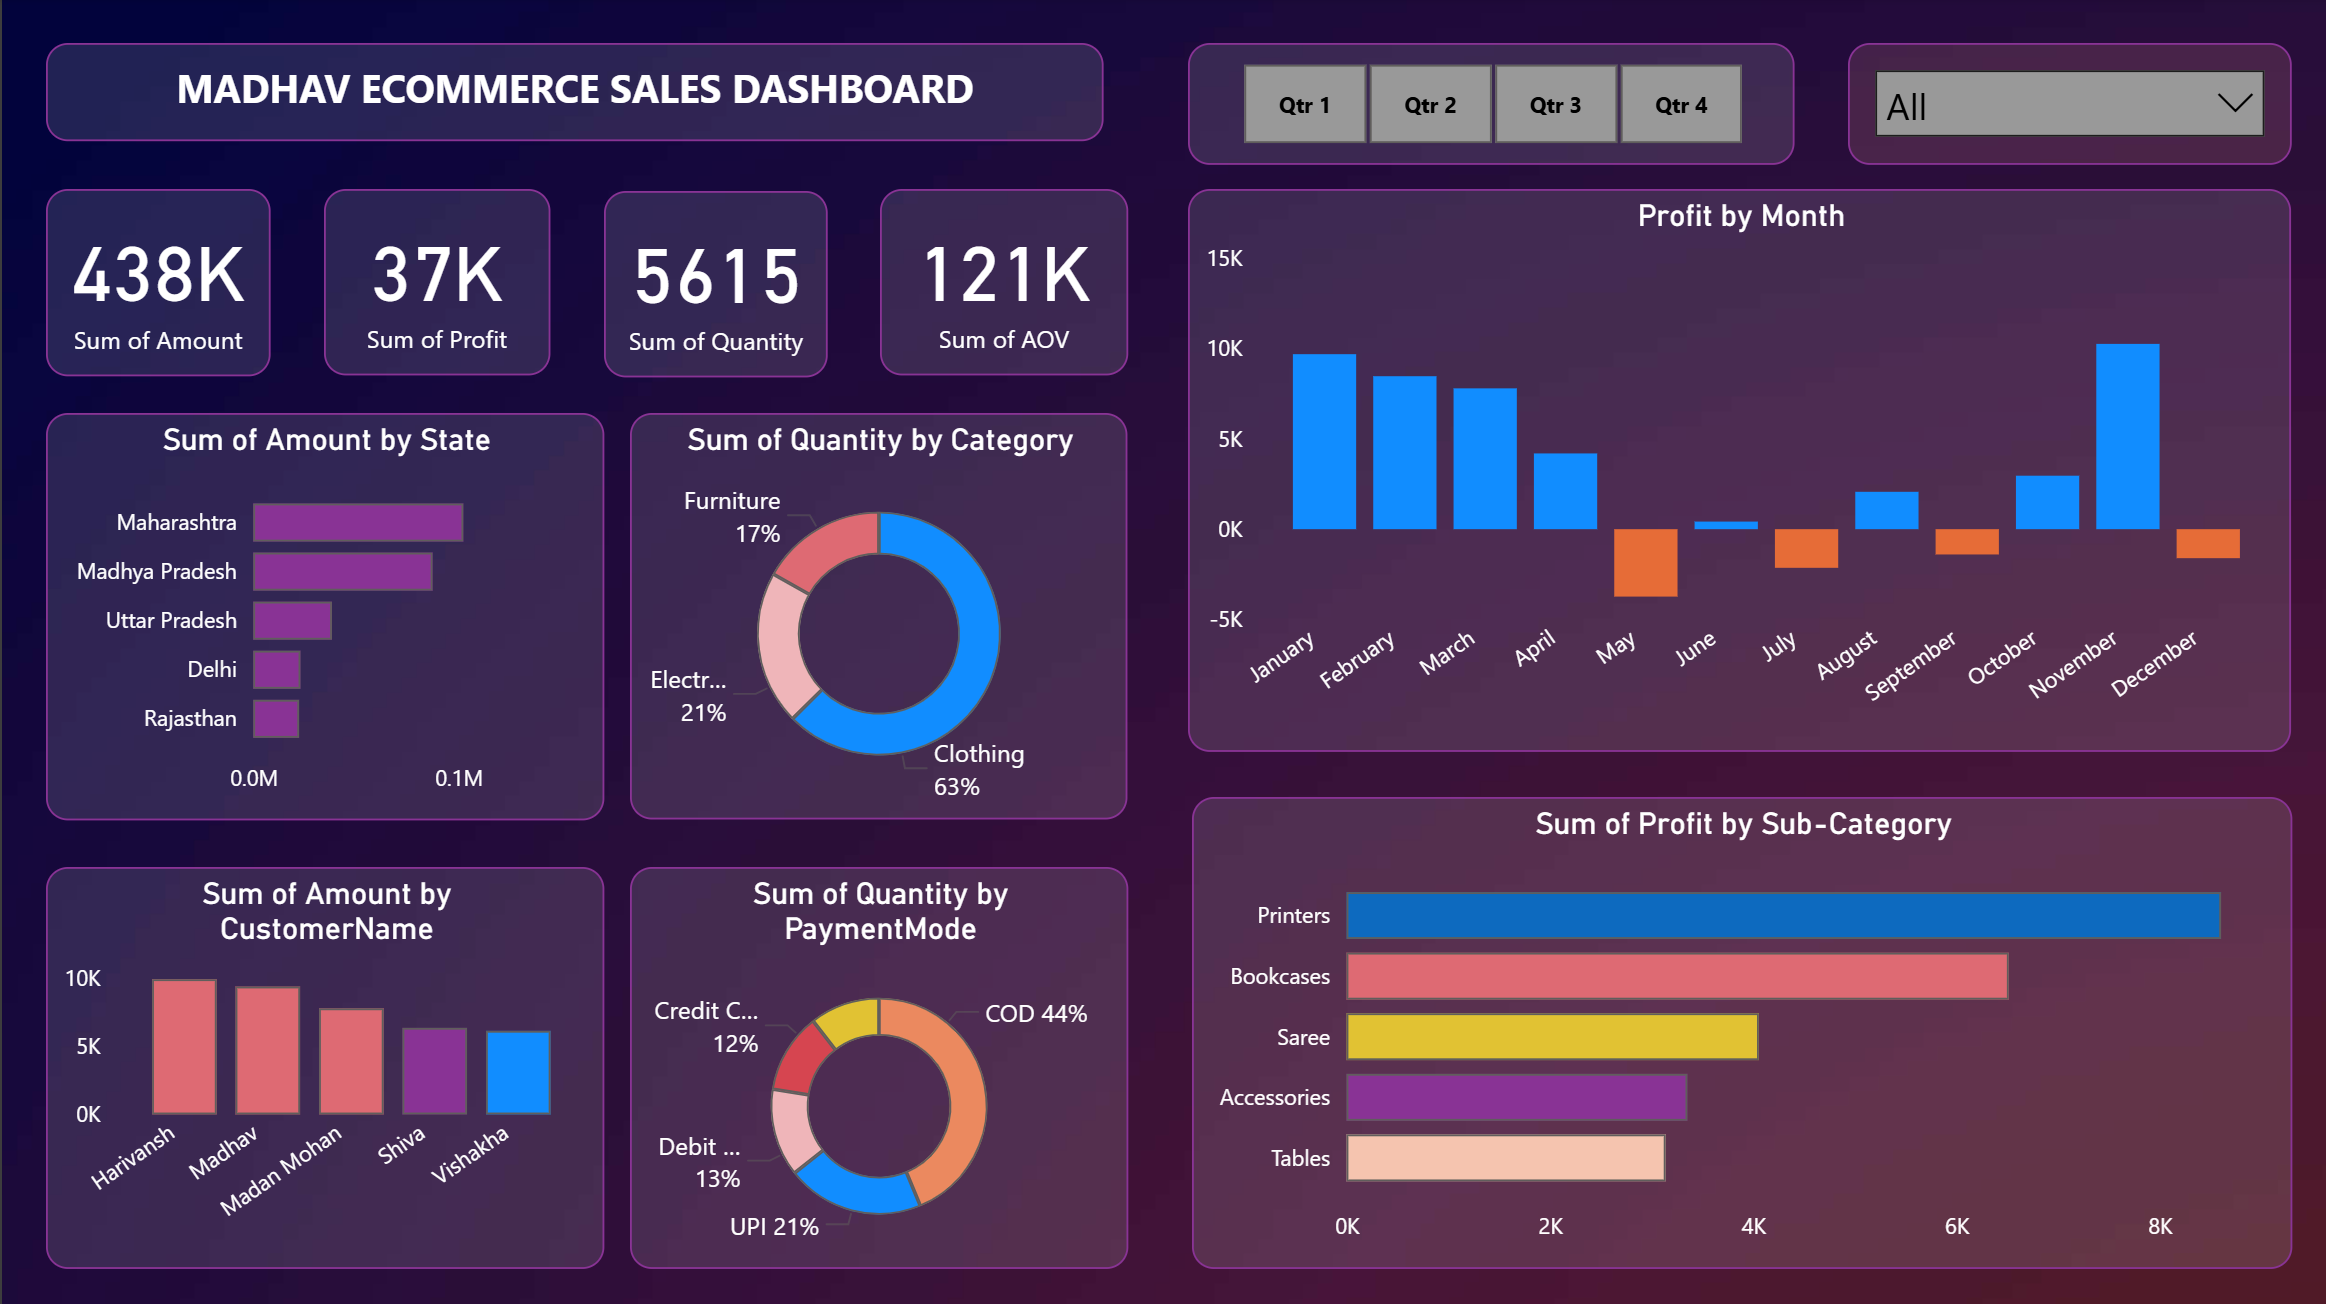

The dashboard page shown, as its layout file describes it:
{"tool":"powerbi","page":{"name":"Page 1","canvas":[1280,720],"ordinal":0},"visuals":[{"type":"textbox","box":[24.2,25.3,581.7,53.9],"z":0},{"type":"columnChart","title":"Profit by Month","fields":{"Y":["Details.Profit"],"Category":["Orders.Order Date.Variation.Date Hierarchy.Month"]},"box":[651.6,105.4,606.6,309.7],"z":1000},{"type":"barChart","fields":{"Category":["Details.Sub-Category"],"Y":["Details.Profit"]},"box":[654.3,439.9,604.8,259.5],"z":2000},{"type":"donutChart","fields":{"Category":["Details.Category"],"Y":["Details.Quantity"]},"box":[345.7,228.8,273.7,223.6],"z":3000},{"type":"donutChart","fields":{"Y":["Details.Quantity"],"Category":["Details.PaymentMode"]},"box":[345.3,478.4,273.8,221],"z":4000},{"type":"card","fields":{"Values":["Details.Amount"]},"box":[24.4,105.4,123.4,102.8],"z":5000},{"type":"card","fields":{"Values":["Details.Quantity"]},"box":[331,106.7,123.2,102.3],"z":6000},{"type":"card","fields":{"Values":["Details.Profit"]},"box":[177,105.6,124.3,102.3],"z":7000},{"type":"card","fields":{"Values":["Details.Average Order Value"]},"box":[482.7,105.6,136.4,102.3],"z":8000},{"type":"barChart","fields":{"Y":["Details.Amount"],"Category":["Orders.State"]},"box":[24.4,229,306.9,224.1],"z":9000},{"type":"columnChart","fields":{"Category":["Orders.CustomerName"],"Y":["Details.Amount"]},"box":[24,478,307,221],"z":10000},{"type":"slicer","fields":{"Values":["Orders.Order Date.Variation.Date Hierarchy.Quarter"]},"box":[651.6,25.6,333.7,67],"z":11000},{"type":"slicer","fields":{"Values":["Orders.State"]},"box":[1015.3,25.7,244.2,66.8],"z":12000}]}

Visuals, with their boxes in screenshot pixels (x1, y1, x2, y2), scaled from the page's 1280x720 canvas onto the 2326x1304 screenshot:
textbox: left=44, top=46, right=1101, bottom=143
"Profit by Month" columnChart: left=1184, top=191, right=2286, bottom=752
barChart - Details.Sub-Category x Details.Profit: left=1189, top=797, right=2288, bottom=1267
donutChart - Details.Category x Details.Quantity: left=628, top=414, right=1126, bottom=819
donutChart - Details.Quantity x Details.PaymentMode: left=627, top=866, right=1125, bottom=1267
card - Details.Amount: left=44, top=191, right=269, bottom=377
card - Details.Quantity: left=601, top=193, right=825, bottom=379
card - Details.Profit: left=322, top=191, right=548, bottom=377
card - Details.Average Order Value: left=877, top=191, right=1125, bottom=377
barChart - Details.Amount x Orders.State: left=44, top=415, right=602, bottom=821
columnChart - Orders.CustomerName x Details.Amount: left=44, top=866, right=601, bottom=1266
slicer - Orders.Order Date.Variation.Date Hierarchy.Quarter: left=1184, top=46, right=1790, bottom=168
slicer - Orders.State: left=1845, top=47, right=2289, bottom=168
